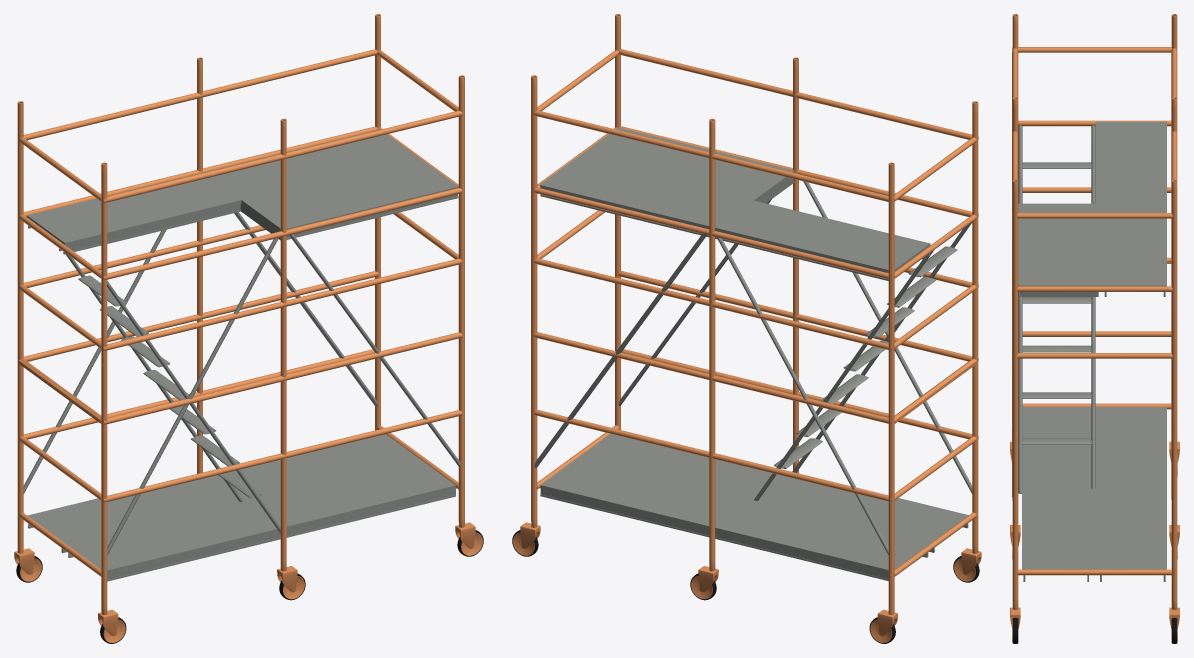
The model's file is scaffolding_1teir_steps.fbx.
3 views of the same model, side by side, from view 1: azimuth 30°, elevation 25°; view 2: azimuth 150°, elevation 25°; view 3: azimuth 270°, elevation 25° (orthographic). The views are drawn at different scales.
Visible parts, largest first — view 1: top plate.001, bottome plate, v1F_pole, v2F_pole, v1F_pole.001, v3B_pole, hLshort1_pole.005, hLshort1_pole.004, hLshort1_pole.003, hLshort1_pole.002, hLshort1_pole.001, hLshort1_pole.010 (+13 smaller); view 2: top plate.001, bottome plate, v3B_pole, v3B_pole.001, v4B_pole, v1F_pole, hLshort1_pole.010, hLshort1_pole.009, hLshort1_pole.005, hLshort1_pole.006, hLshort1_pole.007, hLshort1_pole.008 (+12 smaller); view 3: top plate.001, bottome plate, v2F_pole, v4B_pole, lower3_crossbar.002, lower1_crossbar.002, hRlong1_pole, hRlong2_pole, hRlong3_pole, hRlong2_pole.001, hLlong3_pole, hLshort1_pole (+14 smaller).
Part boxes in pixels (bbox=[...]): top plate.001: bbox=[27, 434, 456, 581]; bottome plate: bbox=[27, 129, 458, 254]; v1F_pole: bbox=[101, 162, 107, 614]; v2F_pole: bbox=[458, 75, 464, 527]; v1F_pole.001: bbox=[280, 118, 286, 571]; v3B_pole: bbox=[17, 101, 23, 553]; hLshort1_pole.005: bbox=[103, 110, 462, 203]; hLshort1_pole.004: bbox=[103, 188, 462, 280]; hLshort1_pole.003: bbox=[103, 258, 462, 351]; hLshort1_pole.002: bbox=[103, 332, 462, 424]; hLshort1_pole.001: bbox=[103, 410, 462, 502]; hLshort1_pole.010: bbox=[19, 49, 377, 140]; top plate.001: bbox=[540, 433, 968, 580]; bottome plate: bbox=[539, 127, 930, 280]; v3B_pole: bbox=[888, 162, 894, 614]; v3B_pole.001: bbox=[709, 118, 715, 571]; v4B_pole: bbox=[531, 75, 537, 527]; v1F_pole: bbox=[972, 101, 978, 553]; hLshort1_pole.010: bbox=[534, 110, 892, 202]; hLshort1_pole.009: bbox=[534, 187, 892, 279]; hLshort1_pole.005: bbox=[618, 49, 978, 139]; hLshort1_pole.006: bbox=[534, 409, 892, 501]; hLshort1_pole.007: bbox=[534, 332, 892, 424]; hLshort1_pole.008: bbox=[534, 258, 892, 350]; top plate.001: bbox=[1022, 407, 1166, 581]; bottome plate: bbox=[1018, 121, 1166, 296]; v2F_pole: bbox=[1012, 179, 1018, 609]; v4B_pole: bbox=[1171, 179, 1177, 609]; lower3_crossbar.002: bbox=[1018, 125, 1022, 493]; lower1_crossbar.002: bbox=[1091, 125, 1095, 489]; hRlong1_pole: bbox=[1017, 569, 1171, 575]; hRlong2_pole: bbox=[1017, 353, 1172, 358]; hRlong3_pole: bbox=[1017, 213, 1172, 218]; hRlong2_pole.001: bbox=[1017, 286, 1172, 291]; hLlong3_pole: bbox=[1017, 47, 1171, 52]; hLshort1_pole: bbox=[1022, 331, 1171, 336].
Bounding box in the file's own units: 325 × 391 × 132.
